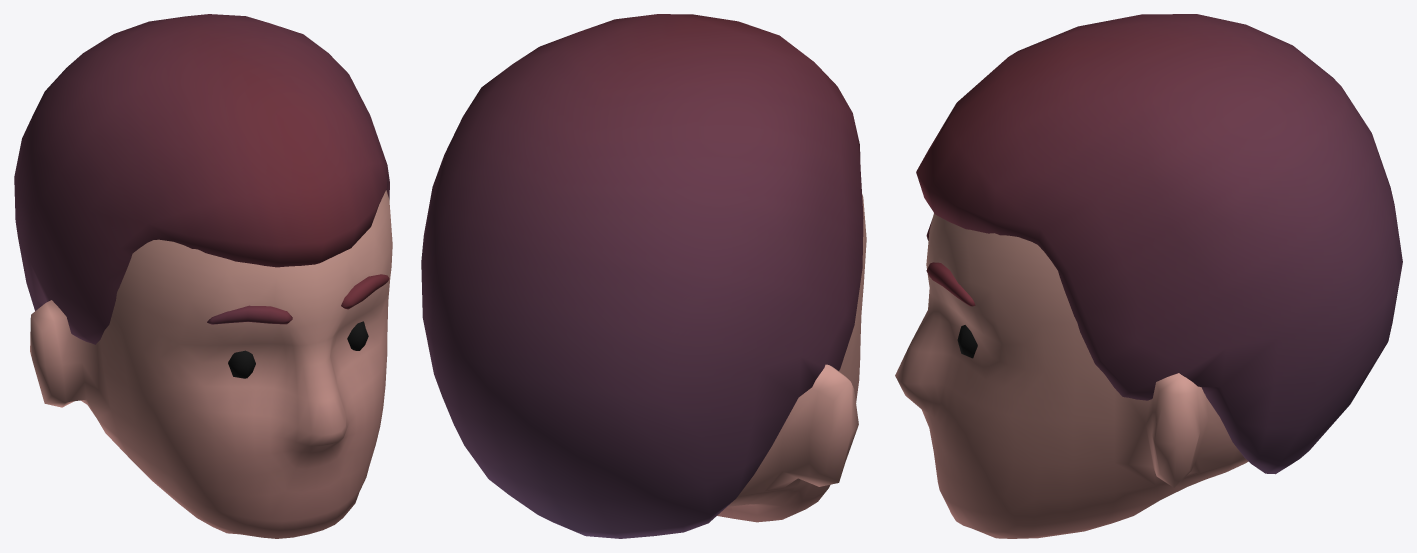
The model's file is apainter-head-mobile.gltf.
3 renders of one model, left to right at view 1: azimuth 30°, elevation 25°; view 2: azimuth 150°, elevation 25°; view 3: azimuth 270°, elevation 25°, orthographic. The views are drawn at different scales.
Parts seen in each view (by area): view 1: var-hair-normal, head; view 2: var-hair-normal, head; view 3: var-hair-normal, head.
Part boxes in pixels (x1=…): var-hair-normal: x1=14, y1=14, x2=389, y2=344; head: x1=30, y1=190, x2=392, y2=538; var-hair-normal: x1=421, y1=14, x2=863, y2=538; head: x1=717, y1=194, x2=866, y2=522; var-hair-normal: x1=916, y1=14, x2=1402, y2=474; head: x1=895, y1=213, x2=1248, y2=538.
Size of the model in its own units: 0.2488 by 0.2931 by 0.2853.
